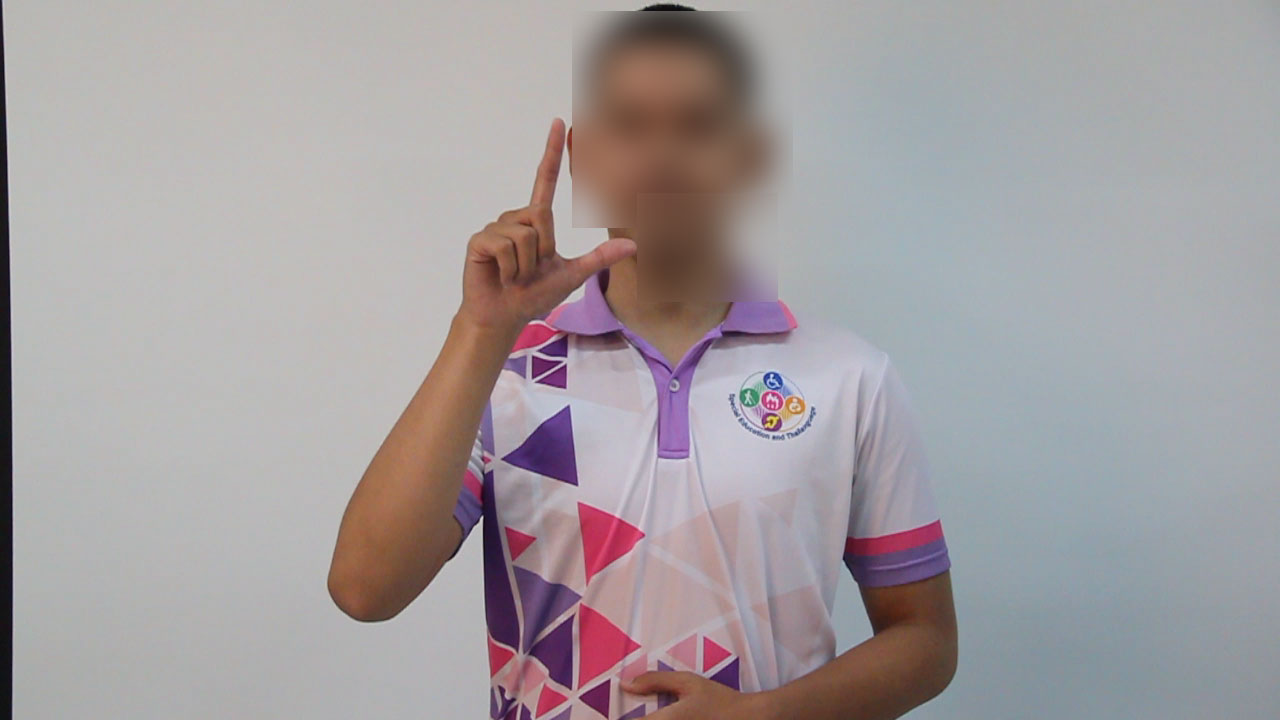lor: (399, 86, 669, 332)
